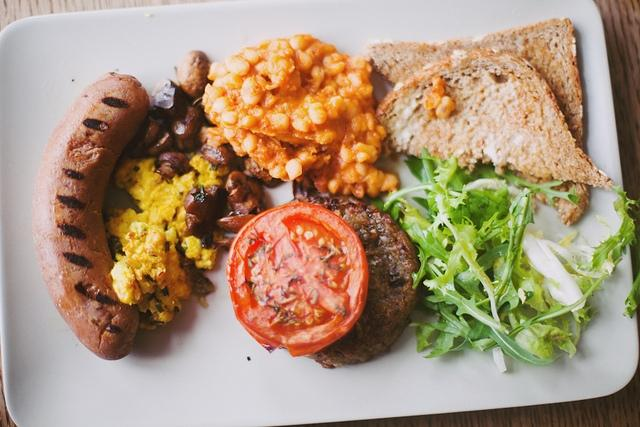tomato: (226, 202, 368, 357)
